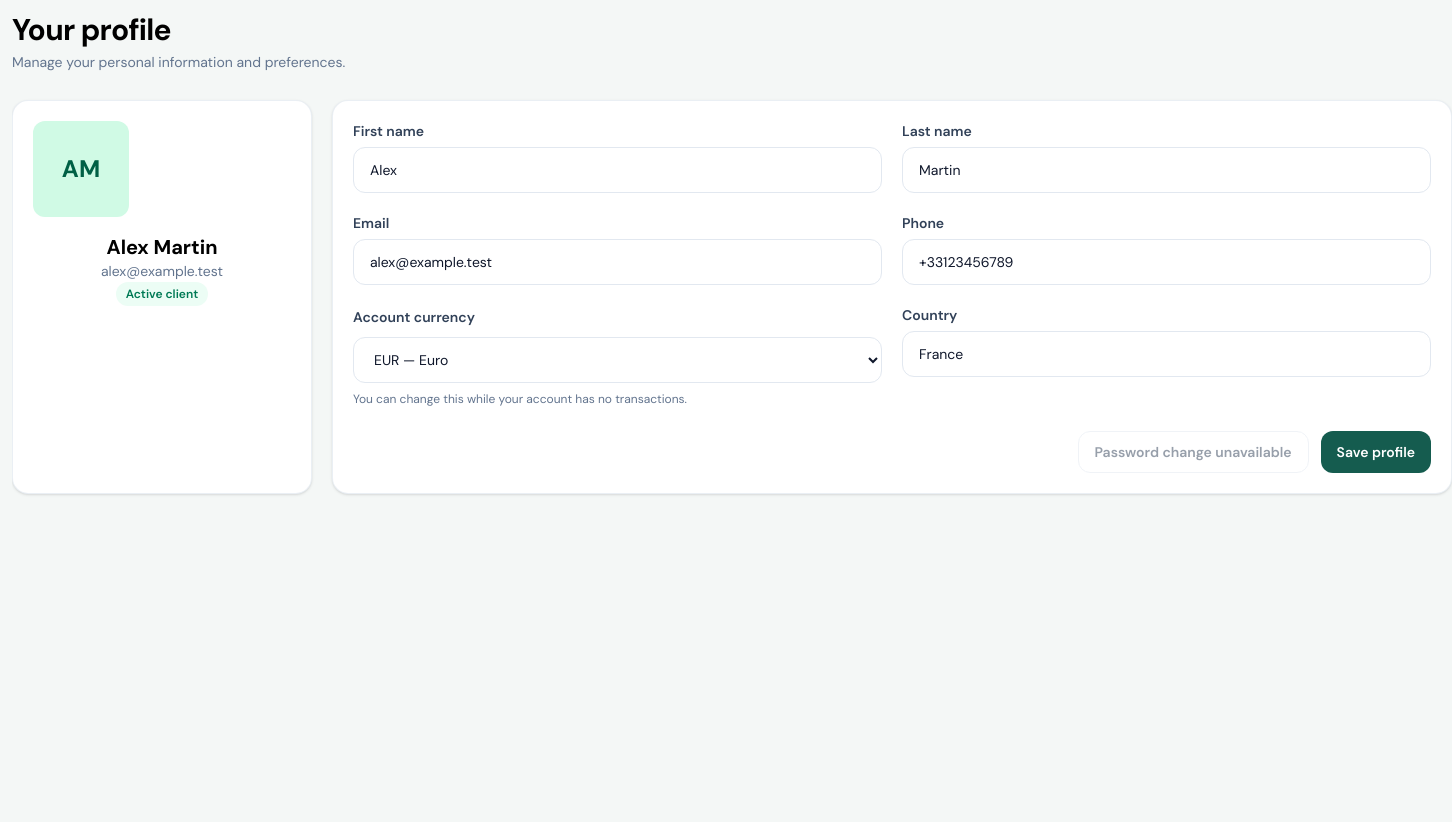
Test: Profile persistence › calls updateProfile API when save button clicked
This screenshot has width=1452, height=822.
Click the button "Save profile" at (1376, 452), box [1321, 431, 1431, 473]
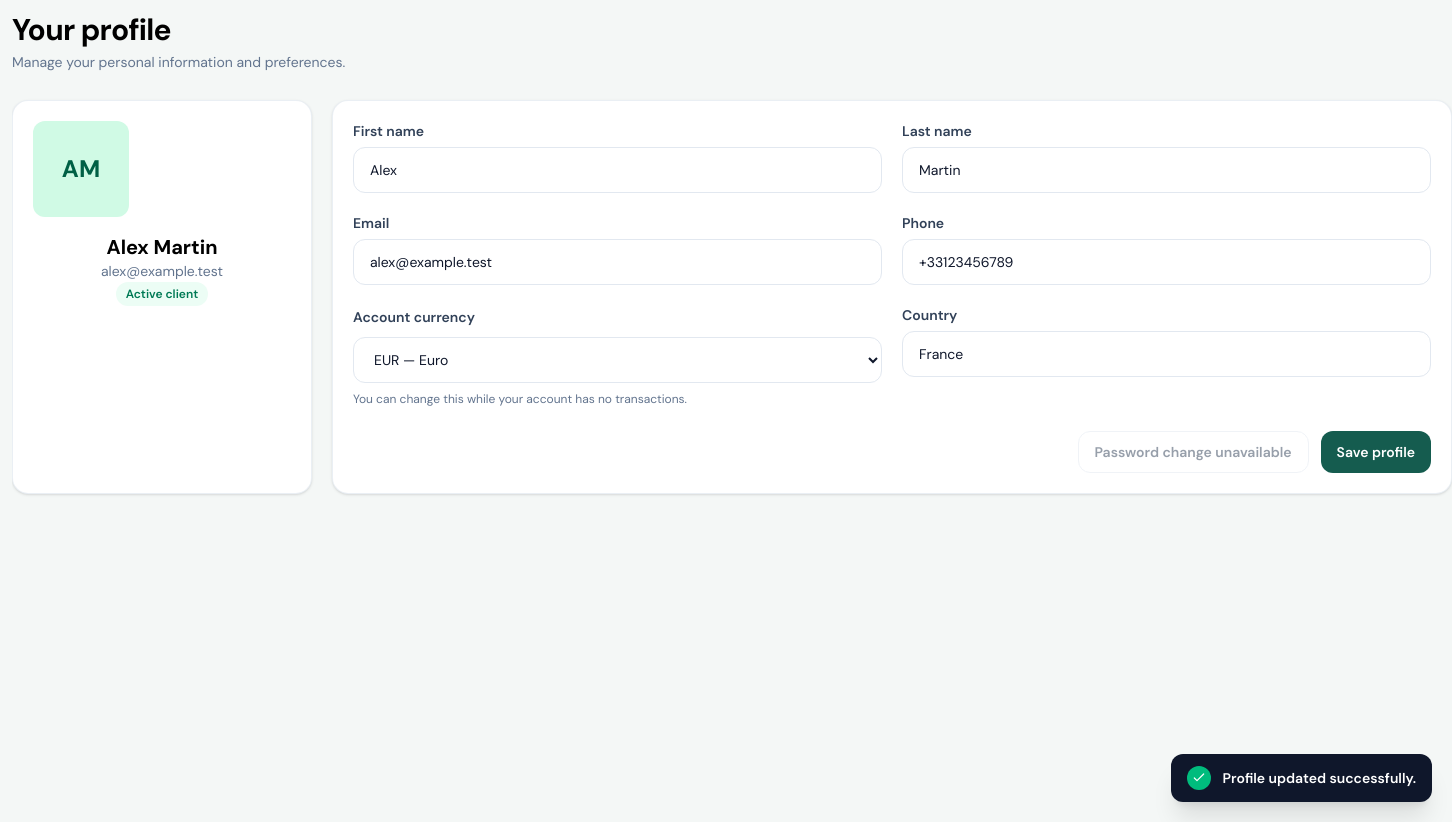
Result: the text "Profile updated successfully." is shown at [1171, 754, 1432, 802]
